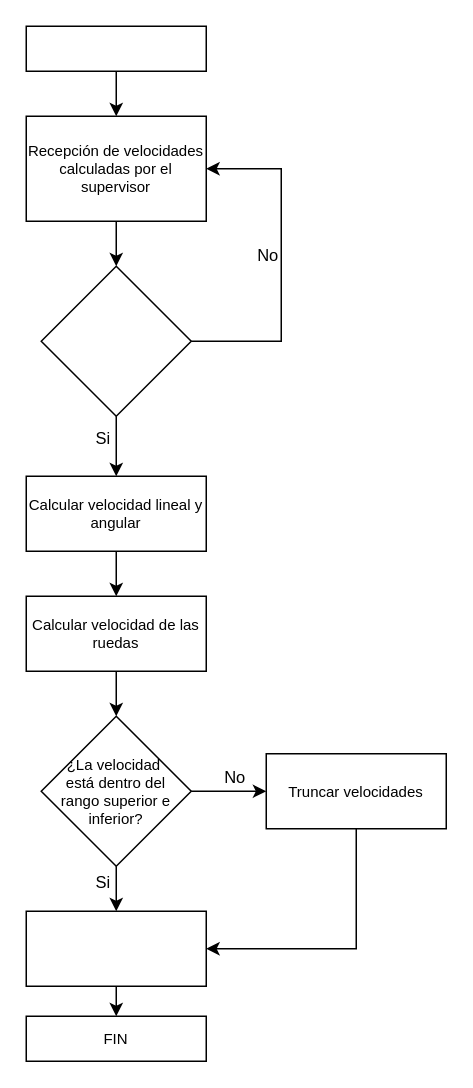
Image size: 473x1088. Some labels were removed from this diagram. The centre of each missing label's shape, as x and y in pixels:
"Argumento == ID agente" belongs at point (115, 340).
"Enviar velocidades a las ruedas del agente" belongs at point (115, 948).
"INICIO" belongs at point (115, 48).
